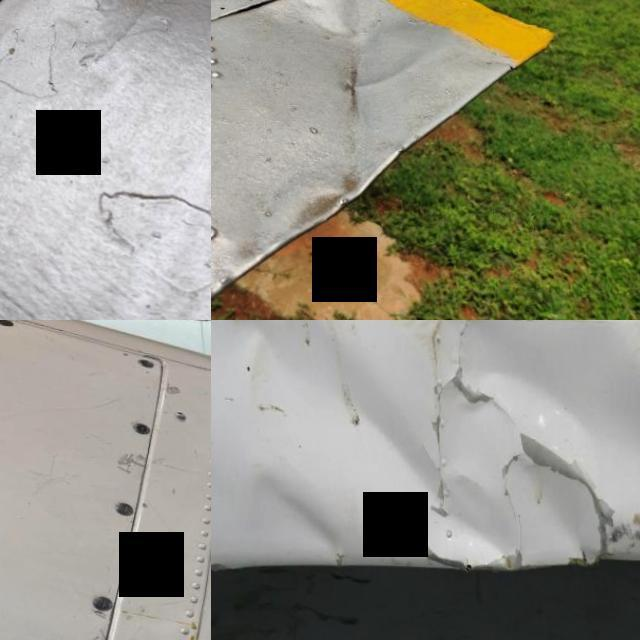Dent: (451, 320, 640, 469), (350, 395, 526, 554), (280, 136, 383, 247), (251, 467, 347, 559), (521, 463, 598, 558)
